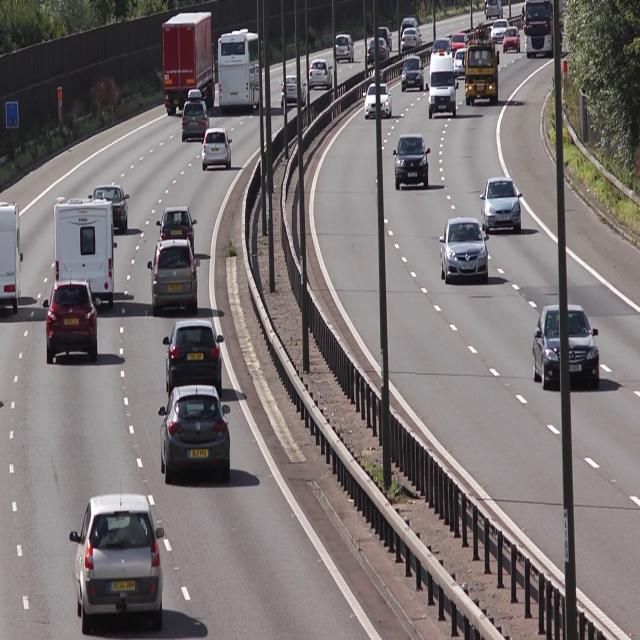Car: (66, 493, 166, 632), (54, 196, 116, 307), (533, 297, 601, 395), (160, 389, 230, 481), (162, 11, 215, 110), (43, 280, 100, 364), (162, 320, 225, 392), (147, 237, 200, 318), (439, 214, 488, 290), (220, 30, 261, 110), (464, 28, 501, 106), (482, 174, 522, 236), (154, 202, 198, 255), (393, 133, 430, 194), (92, 181, 132, 233), (429, 48, 458, 118), (181, 90, 210, 143), (199, 128, 233, 173), (400, 54, 426, 94), (367, 84, 392, 120), (280, 76, 304, 112), (307, 56, 333, 89), (503, 20, 522, 58), (336, 32, 355, 65)
